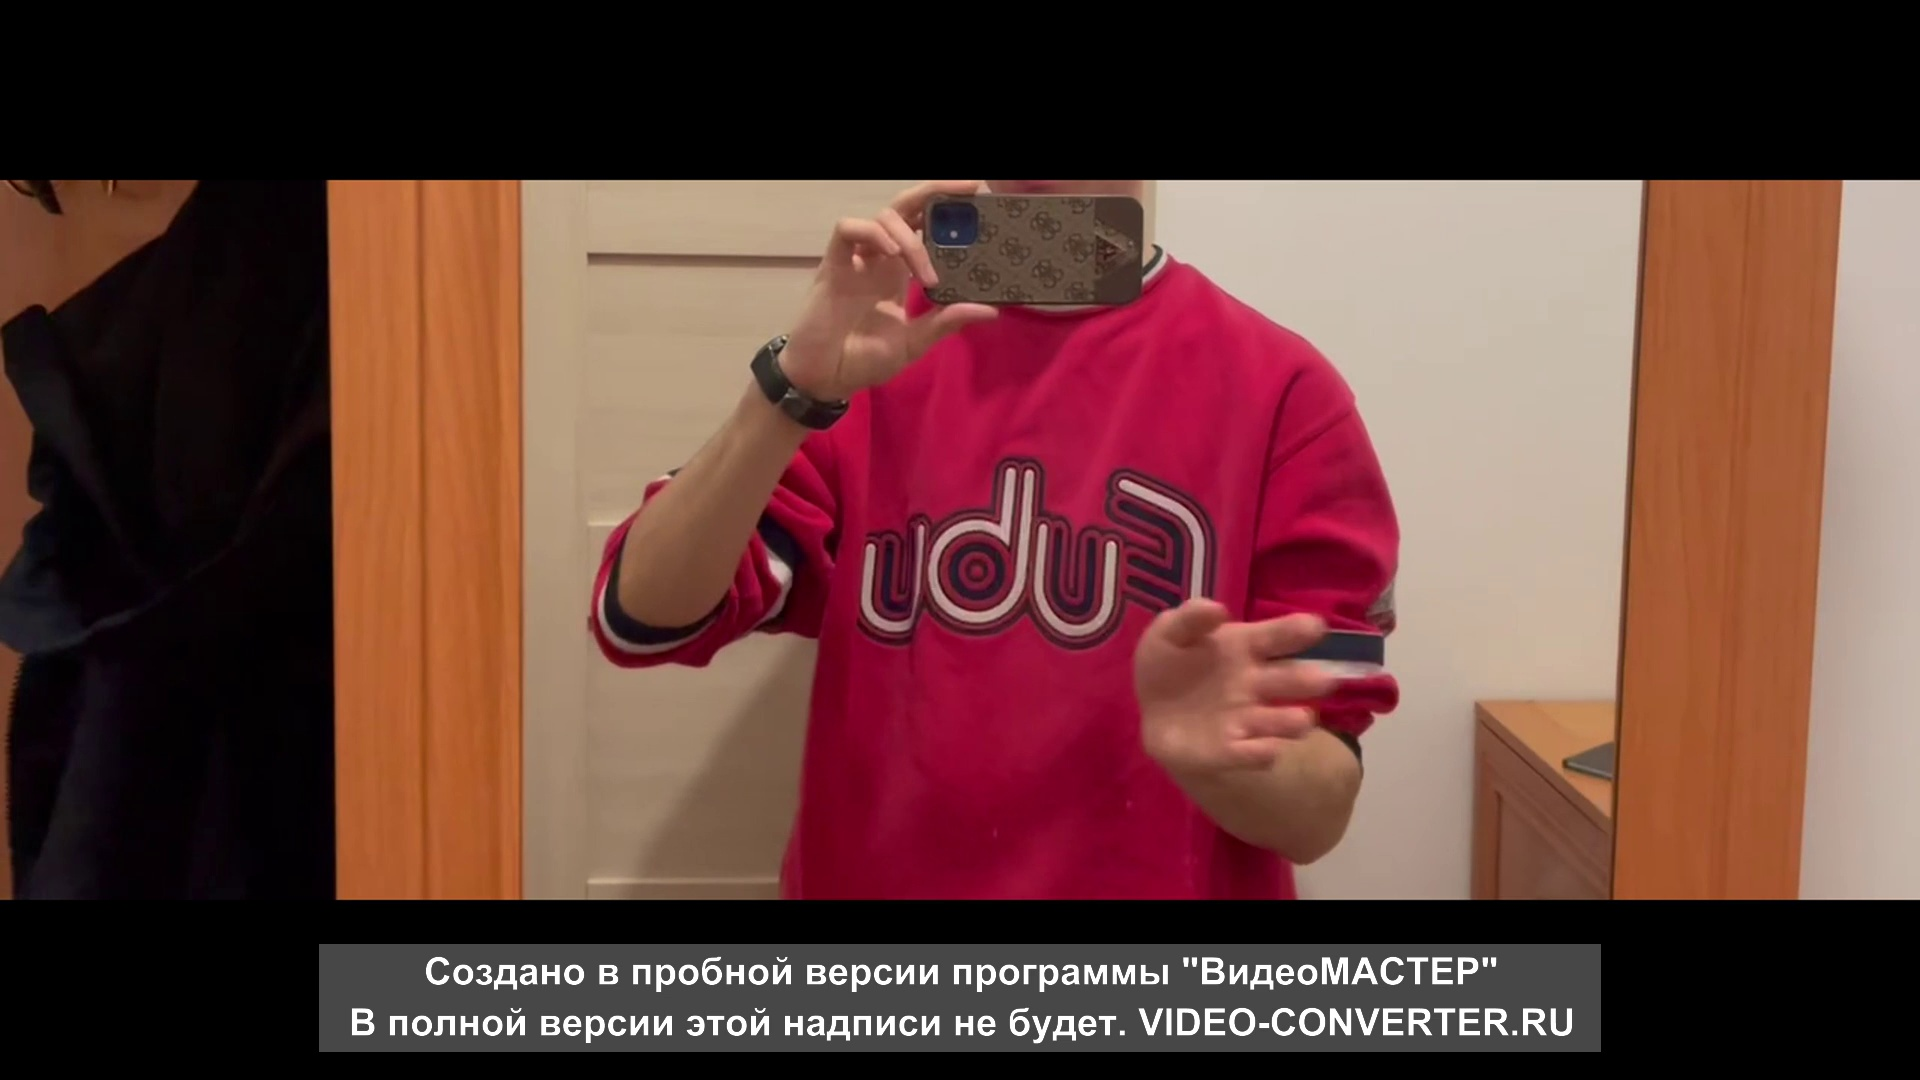Ладонь: (1133, 596, 1332, 775)
